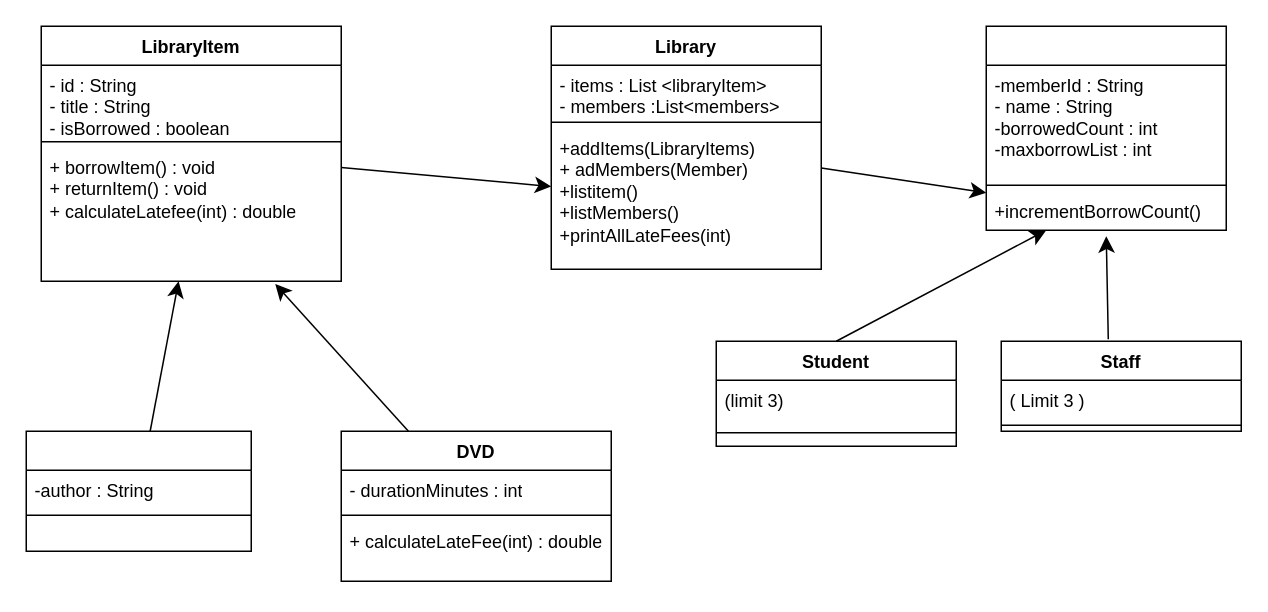
The diagram is 1268 pixels wide and 612 high, and some of its shapes have lost their labels. The shapes that lost their labels are listed below. From the top down, each one's box as (x1, y1, x2, y2) in pixels, then its label:
(985, 25, 1226, 230): Members
(25, 430, 251, 551): Book
